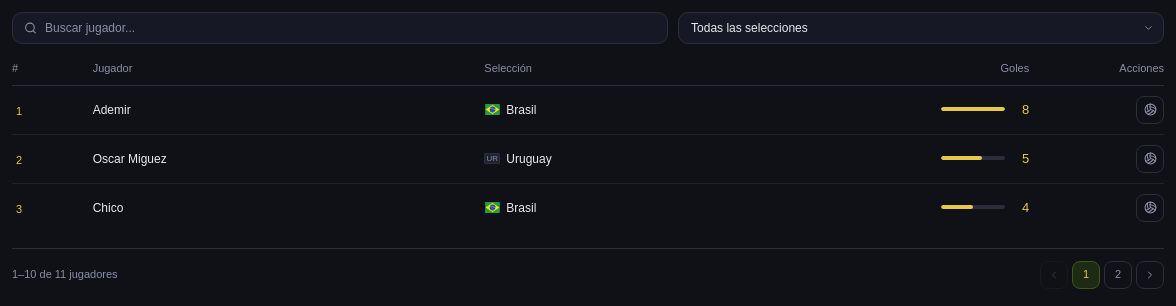
Test: ScorersTab › cambia la página visible usando paginación remota
Expected: the text "Ademir" is shown, [93, 102, 131, 116]
Expected: the text "Alcides Ghiggia" is not shown
Step 1. Click the button named "Página siguiente" → (1150, 274), box [1136, 260, 1164, 288]
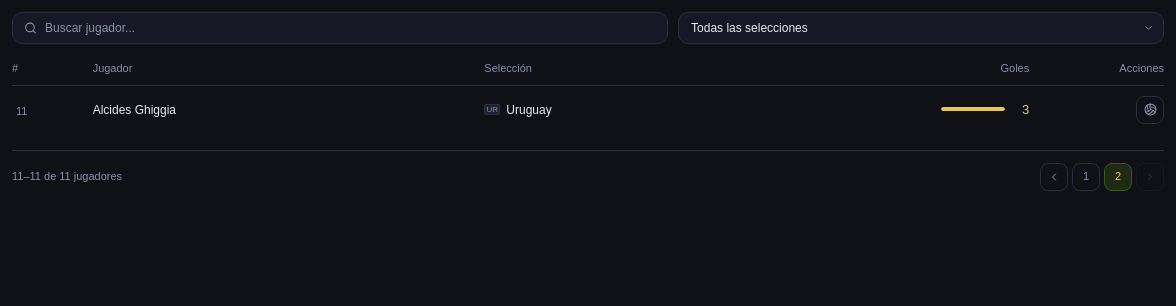
Expected: the text "Alcides Ghiggia" is shown, [93, 102, 176, 116]
Expected: the text "Ademir" is gone
